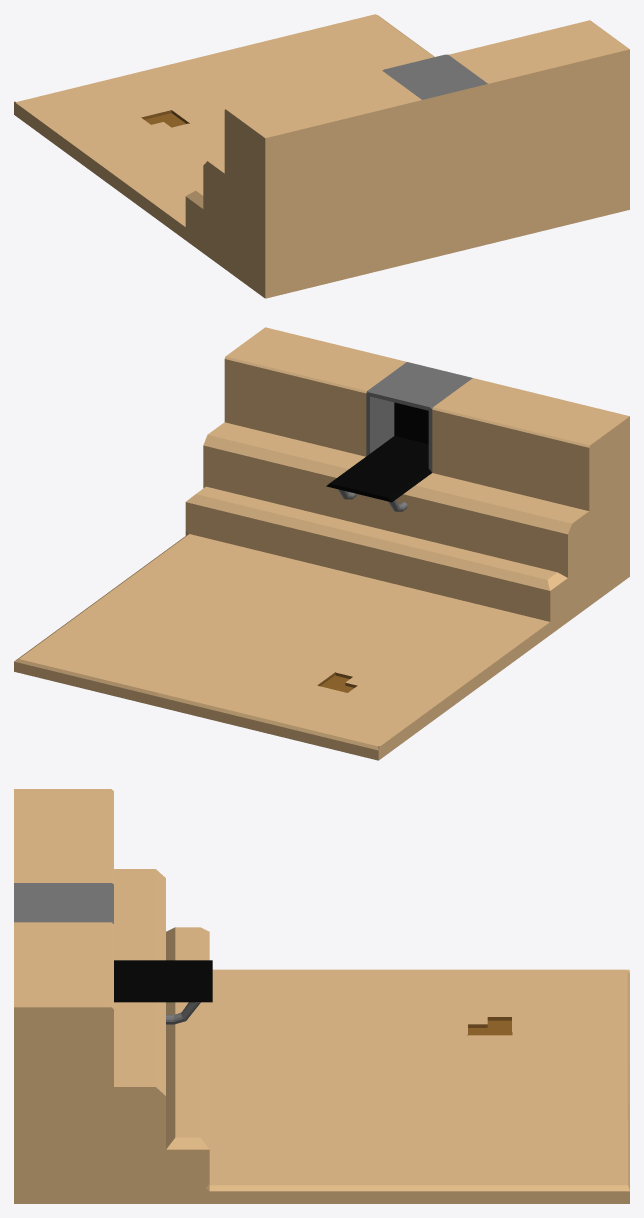
File: cliff_base.glb
3 renders of one model, top to bottom at view 1: azimuth 30°, elevation 25°; view 2: azimuth 150°, elevation 25°; view 3: azimuth 270°, elevation 25°, orthographic. The views are drawn at different scales.
Parts seen in each view (by area): view 1: Plane; view 2: Plane; view 3: Plane.
Boxes of the visible parts, bbox=[...] form: Plane: bbox=[14, 14, 629, 298]; Plane: bbox=[14, 327, 629, 760]; Plane: bbox=[14, 789, 629, 1203].
Size of the model in its own units: 70.61 by 29.69 by 84.29.
